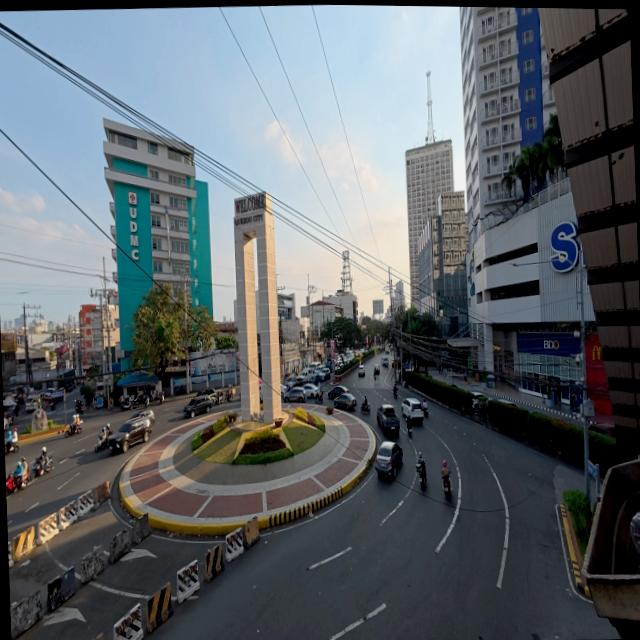car: (109, 418, 150, 452), (374, 442, 402, 476), (183, 395, 213, 417), (401, 398, 424, 422), (129, 408, 155, 427), (589, 423, 615, 437), (334, 394, 356, 410), (284, 386, 305, 402), (196, 387, 216, 403), (472, 391, 488, 410), (328, 386, 348, 399), (303, 385, 320, 398), (497, 398, 519, 408), (316, 369, 330, 384), (315, 366, 330, 380), (283, 376, 297, 390), (307, 374, 321, 385), (296, 373, 308, 384), (321, 367, 331, 380), (300, 368, 311, 379), (372, 364, 380, 376), (381, 356, 389, 367), (281, 383, 288, 394), (358, 365, 365, 376)
motorcycle: (28, 457, 53, 482), (6, 473, 27, 495), (65, 420, 83, 437), (95, 432, 109, 451), (416, 463, 426, 488), (133, 392, 150, 406), (120, 395, 133, 410), (5, 442, 19, 455), (443, 477, 451, 497), (152, 391, 164, 404), (75, 401, 85, 414), (360, 403, 371, 413), (315, 392, 323, 404), (422, 407, 428, 418), (408, 424, 412, 438), (394, 386, 398, 398)
trucks: (377, 404, 400, 433)
vans: (24, 395, 39, 412), (309, 362, 320, 372)
